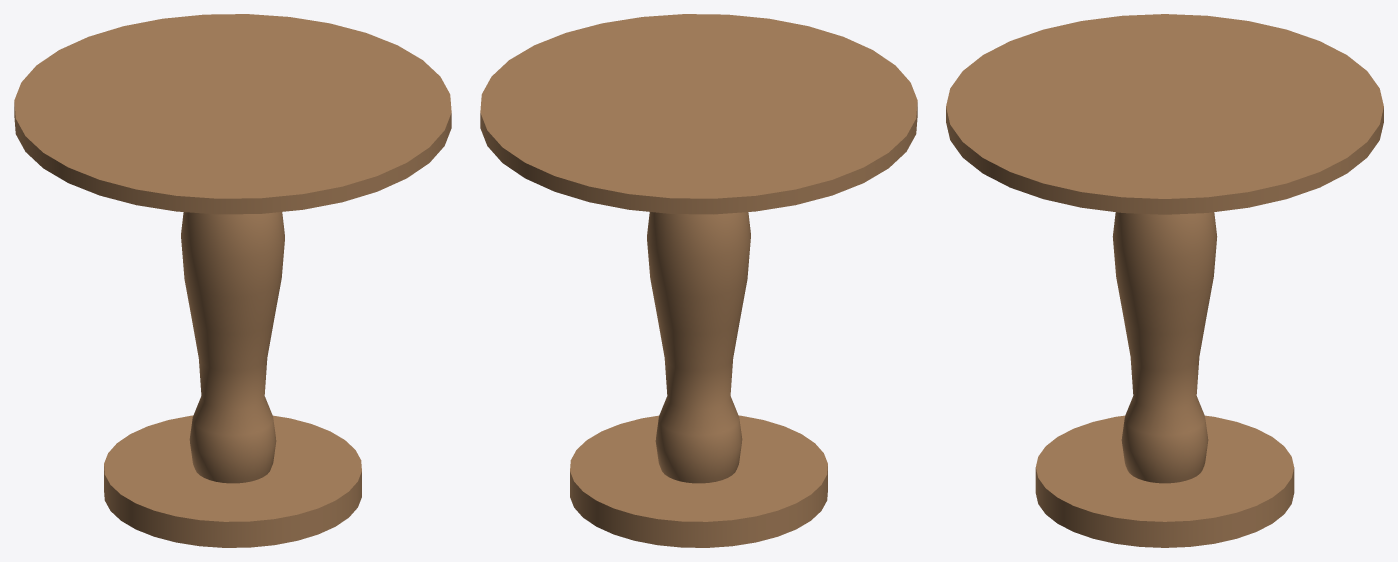
Rendered from mesa.fbx.
The picture shows the model from 3 angles, left to right: view 1: azimuth 30°, elevation 25°; view 2: azimuth 150°, elevation 25°; view 3: azimuth 270°, elevation 25°; orthographic projection.
Parts seen in each view (by area): view 1: mesa; view 2: mesa; view 3: mesa.
Boxes of the visible parts, x1,y1,x2,y2 form: mesa: (14,14,451,547); mesa: (480,14,917,547); mesa: (946,14,1383,547).
Bounding box in the file's own units: 202 × 197 × 202.
